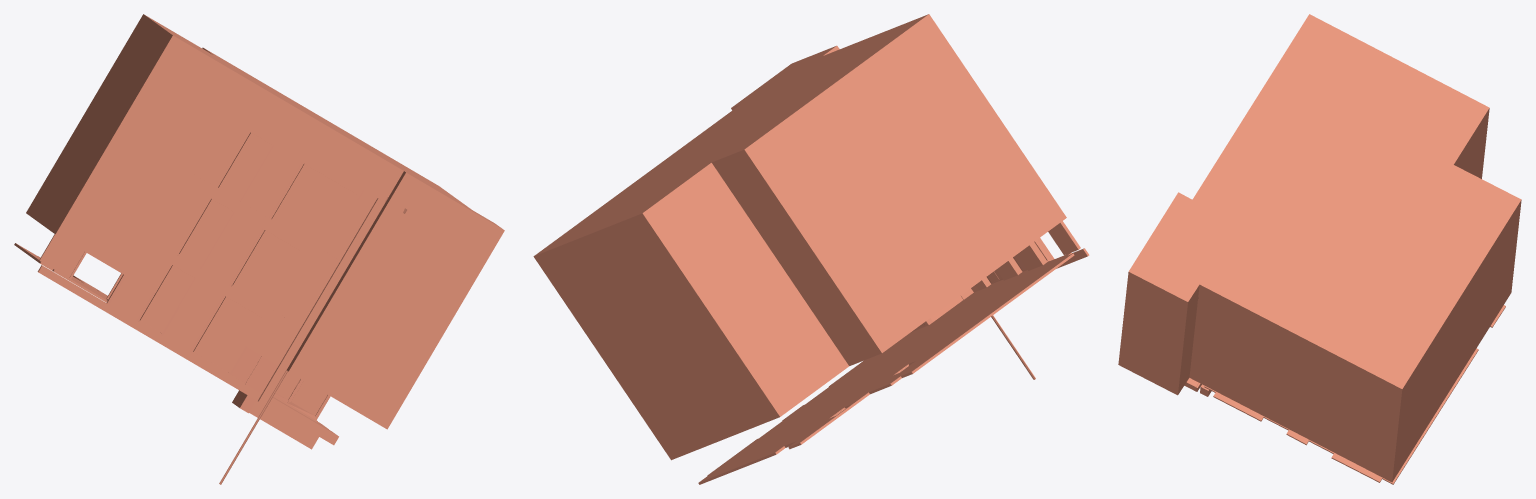
3 views of the same model, side by side, from view 1: azimuth 30°, elevation 25°; view 2: azimuth 150°, elevation 25°; view 3: azimuth 270°, elevation 25° (orthographic). The views are drawn at different scales.
Visible parts, largest first — view 1: mesh; view 2: mesh; view 3: mesh.
Boxes of the visible parts, <box> form: mesh: <box>14,14,504,484</box>; mesh: <box>533,14,1089,484</box>; mesh: <box>1118,14,1521,484</box>.
Bounding box in the file's own units: 20.7 × 19.21 × 17.63.
